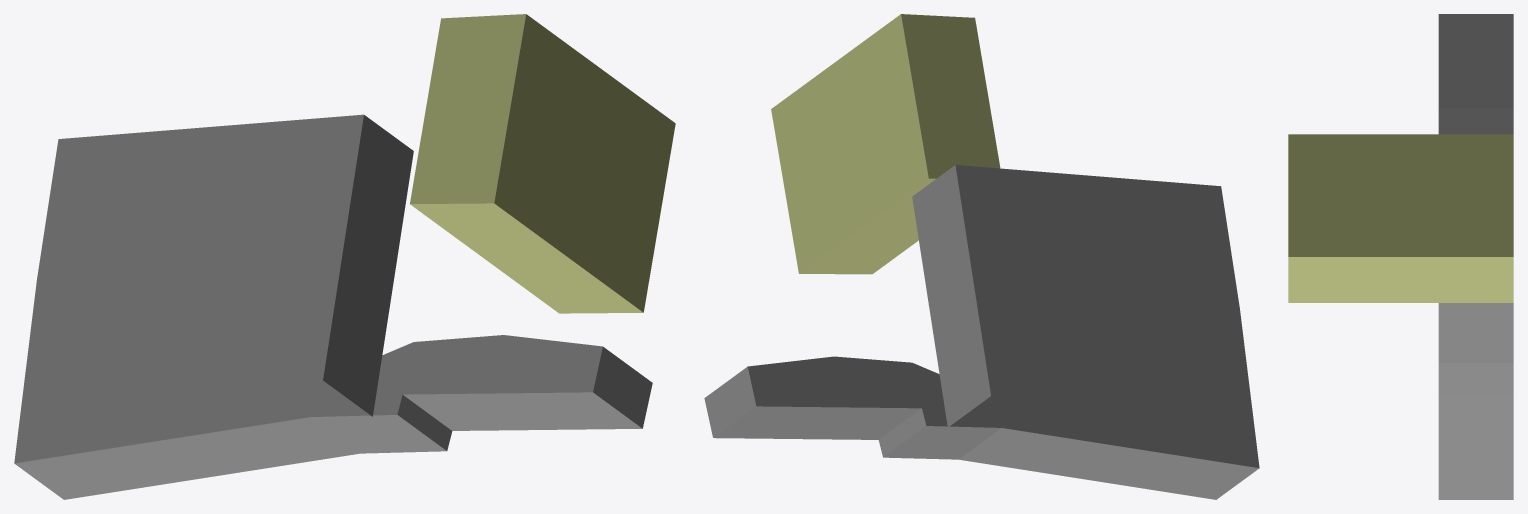
3 renders of one model, left to right at view 1: azimuth 30°, elevation 25°; view 2: azimuth 150°, elevation 25°; view 3: azimuth 270°, elevation 25°, orthographic. The views are drawn at different scales.
Visible parts, largest first — view 1: 0_3_0_1_2_2_2_3_3; view 2: 0_3_0_1_2_2_2_3_3; view 3: 0_3_0_1_2_2_2_3_3.
Part boxes in pixels (bbox=[...]): 0_3_0_1_2_2_2_3_3: bbox=[14, 14, 675, 499]; 0_3_0_1_2_2_2_3_3: bbox=[704, 14, 1259, 499]; 0_3_0_1_2_2_2_3_3: bbox=[1288, 14, 1513, 499].
Bounding box in the file's own units: 20.46 × 13.65 × 9.
